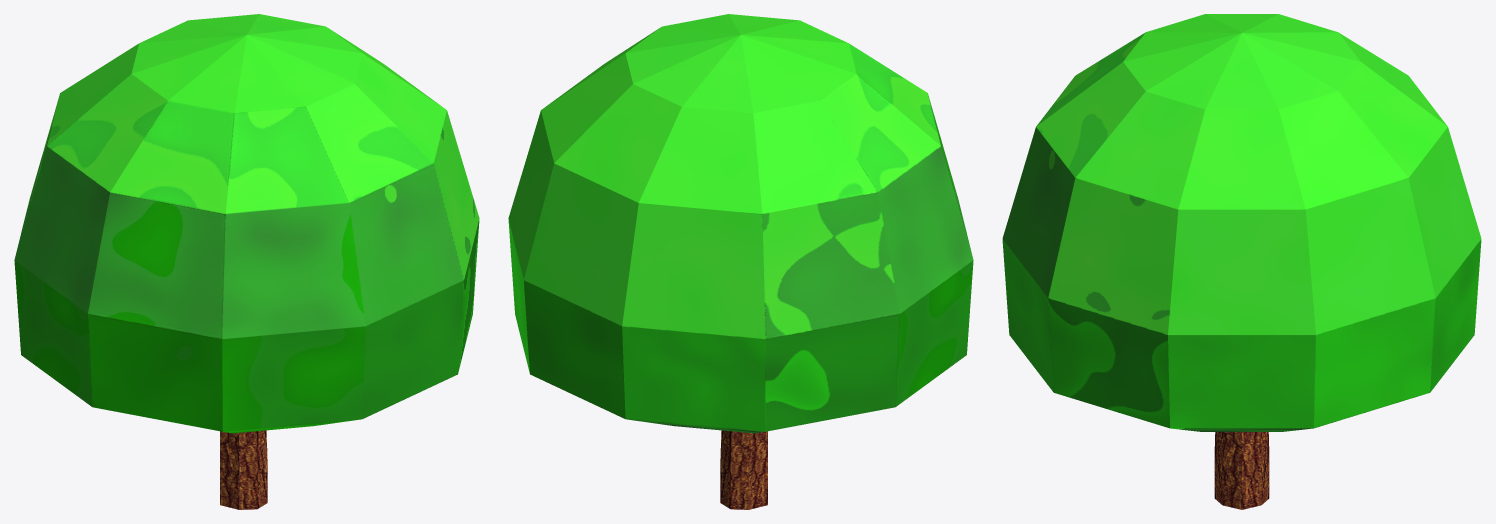
The model's file is tree4leaves.fbx.
The picture shows the model from 3 angles, left to right: view 1: azimuth 30°, elevation 25°; view 2: azimuth 150°, elevation 25°; view 3: azimuth 270°, elevation 25°; orthographic projection.
Parts seen in each view (by area): view 1: Sphere, Cube; view 2: Sphere, Cube; view 3: Sphere, Cube.
Part boxes in pixels (bbox=[...]): Sphere: bbox=[14, 14, 479, 433]; Cube: bbox=[220, 430, 267, 509]; Sphere: bbox=[508, 14, 973, 433]; Cube: bbox=[720, 430, 767, 509]; Sphere: bbox=[1002, 14, 1481, 431]; Cube: bbox=[1214, 432, 1269, 509].
Bounding box in the file's own units: 1749 × 1882 × 1664.
2 materials, 2 textured.
